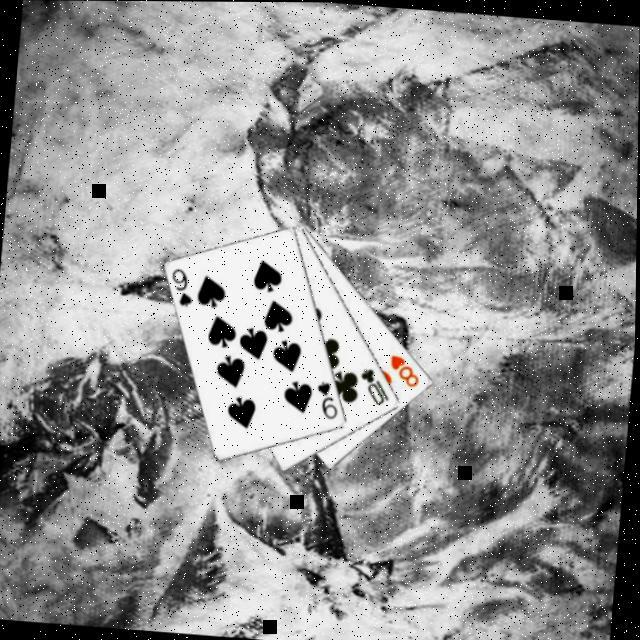10C: (354, 366, 394, 408)
8H: (384, 352, 422, 390)
9S: (310, 378, 342, 424), (164, 266, 197, 310)
